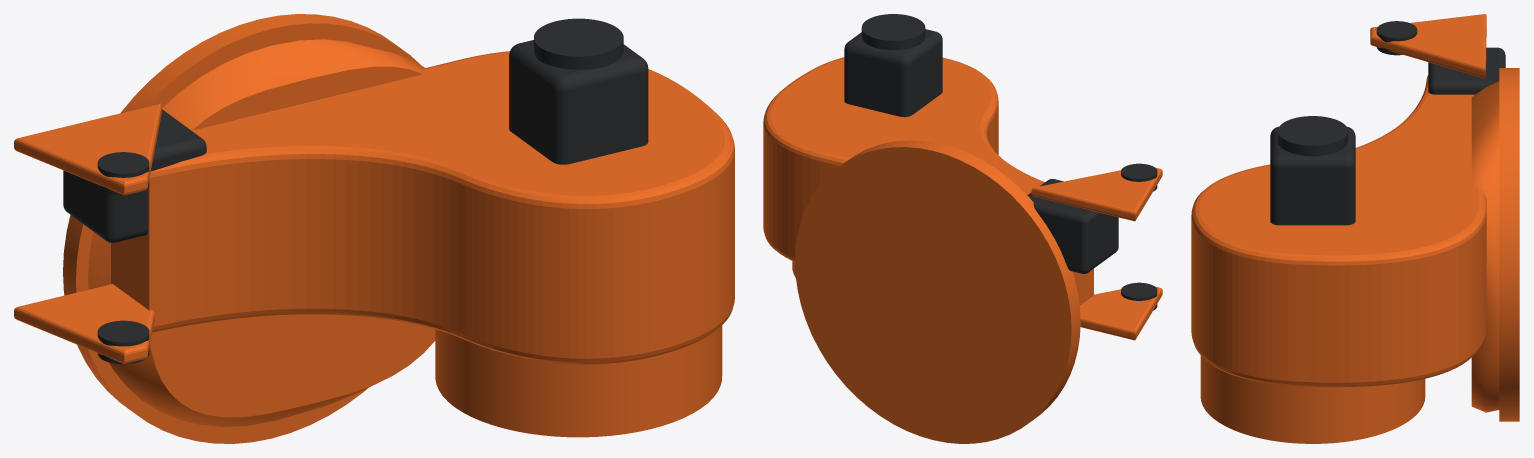
The picture shows the model from 3 angles, left to right: view 1: azimuth 30°, elevation 25°; view 2: azimuth 150°, elevation 25°; view 3: azimuth 270°, elevation 25°; orthographic projection. The views are drawn at different scales.
Visible parts, largest first — view 1: curved_shoulder_casting, rotating_table_upper, a2_fixed_bearing, rotating_table, a2_drive_body, balancer_rear_bracket_far, rear_connection_cover, balancer_rear_bracket_near, a2_drive_end, balancer_rear_pin_near, balancer_rear_pin_far; view 2: rotating_table, curved_shoulder_casting, a2_drive_body, rear_connection_cover, balancer_rear_bracket_far, balancer_rear_bracket_near, a2_drive_end, balancer_rear_pin_far, balancer_rear_pin_near; view 3: curved_shoulder_casting, a2_fixed_bearing, rotating_table, rotating_table_upper, a2_drive_body, balancer_rear_bracket_far, a2_drive_end, rear_connection_cover, balancer_rear_pin_far.
Boxes of the visible parts, bbox=[...] form: curved_shoulder_casting: bbox=[111, 51, 734, 364]; rotating_table_upper: bbox=[88, 39, 435, 427]; a2_fixed_bearing: bbox=[435, 325, 722, 437]; rotating_table: bbox=[63, 14, 420, 443]; a2_drive_body: bbox=[509, 40, 648, 164]; balancer_rear_bracket_far: bbox=[14, 103, 161, 195]; rear_connection_cover: bbox=[63, 109, 206, 242]; balancer_rear_bracket_near: bbox=[14, 284, 154, 363]; a2_drive_end: bbox=[534, 18, 623, 69]; balancer_rear_pin_near: bbox=[97, 320, 149, 364]; balancer_rear_pin_far: bbox=[97, 152, 149, 195]; rotating_table: bbox=[795, 140, 1080, 443]; curved_shoulder_casting: bbox=[763, 57, 1093, 305]; a2_drive_body: bbox=[844, 29, 942, 117]; rear_connection_cover: bbox=[1027, 179, 1118, 273]; balancer_rear_bracket_far: bbox=[1031, 167, 1162, 221]; balancer_rear_bracket_near: bbox=[1079, 286, 1162, 340]; a2_drive_end: bbox=[861, 14, 925, 49]; balancer_rear_pin_far: bbox=[1121, 163, 1157, 191]; balancer_rear_pin_near: bbox=[1121, 282, 1157, 310]; curved_shoulder_casting: bbox=[1191, 75, 1486, 387]; a2_fixed_bearing: bbox=[1200, 355, 1425, 443]; rotating_table: bbox=[1499, 68, 1519, 421]; rotating_table_upper: bbox=[1471, 81, 1499, 412]; a2_drive_body: bbox=[1270, 126, 1355, 225]; balancer_rear_bracket_far: bbox=[1370, 14, 1486, 78]; a2_drive_end: bbox=[1277, 116, 1348, 156]; rear_connection_cover: bbox=[1428, 47, 1505, 94]; balancer_rear_pin_far: bbox=[1376, 21, 1417, 55].
Size of the model in its own units: 1.1 by 0.792 by 0.68.
